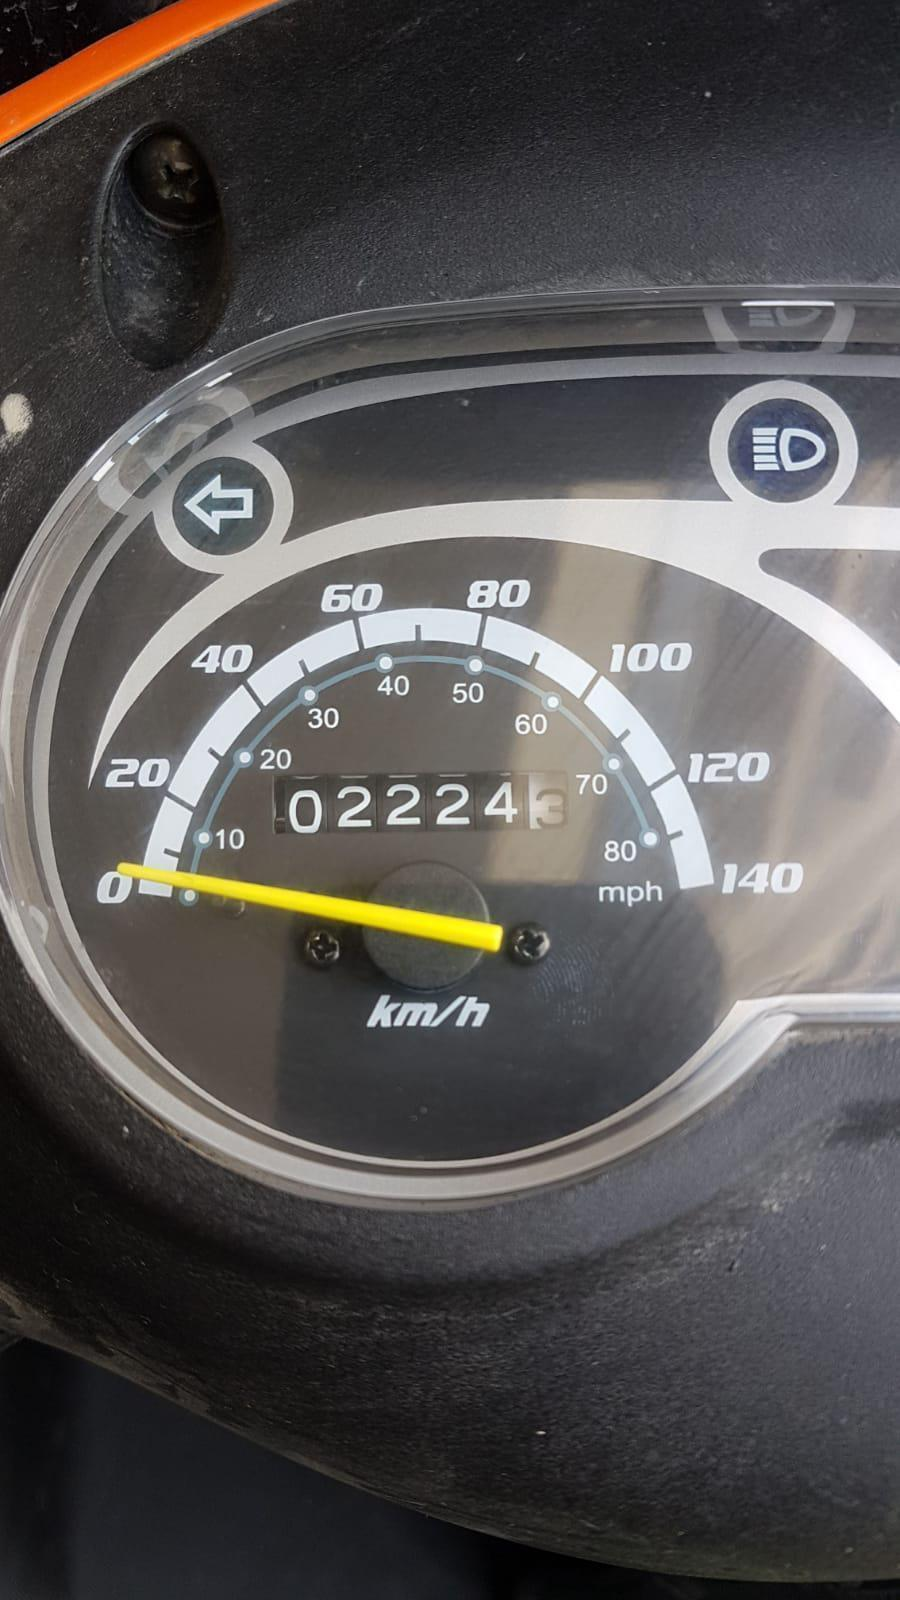0: (284, 782, 325, 834)
2: (333, 782, 373, 834), (384, 779, 421, 831), (433, 781, 473, 830)
3: (529, 784, 569, 834)
4: (482, 781, 519, 826)
odometer: (271, 771, 573, 838)
